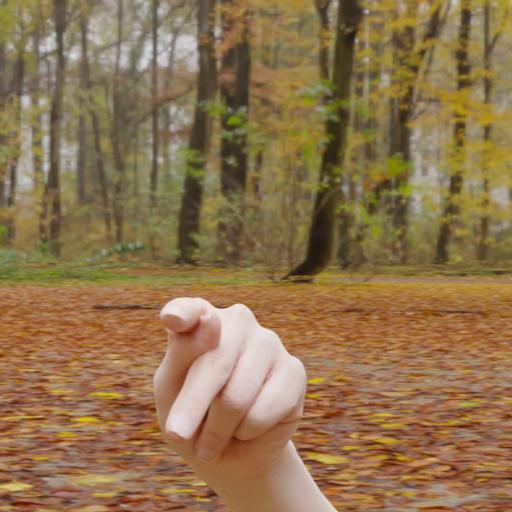P: (137, 292, 326, 474)
